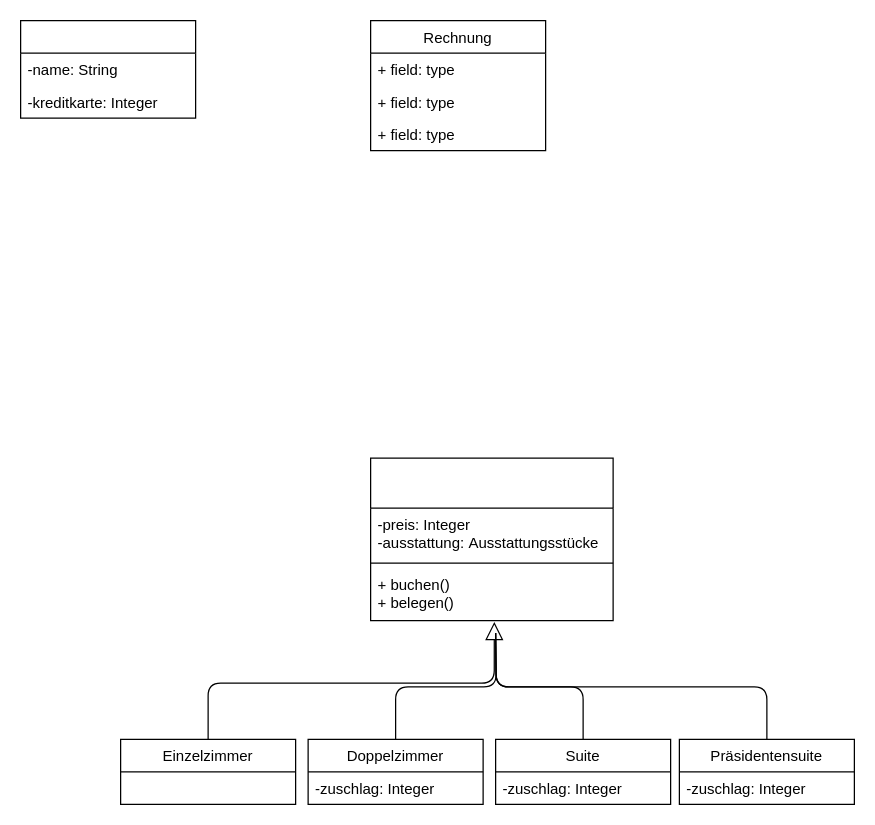
The diagram is 875 pixels wide and 825 high, and some of its shapes have lost their labels. The shapes that lost their labels are listed below. From the top down, each one's box as (x1, y1, x2, y2) in pixels, then its label:
(19, 19, 196, 118): Kunde
(369, 457, 613, 621): {abstract} Hotelzimmer
